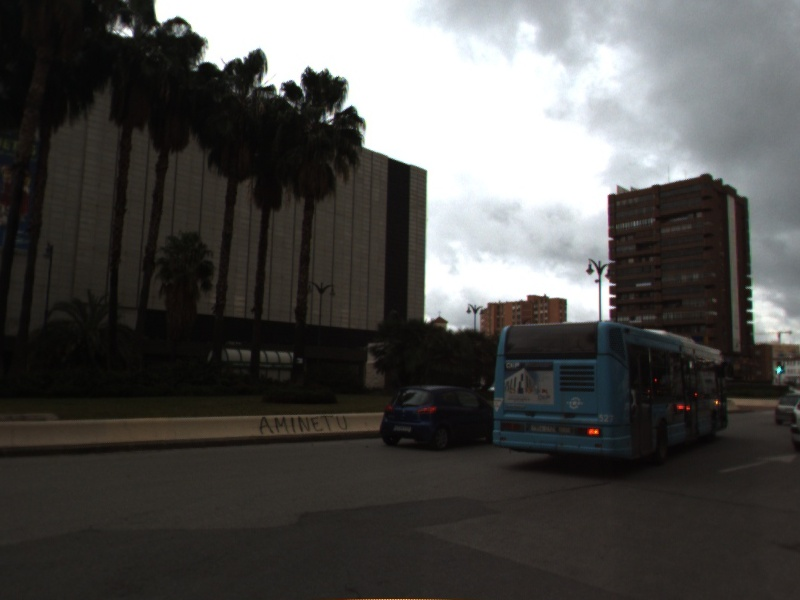STRAIGHT: (717, 451, 798, 476)
